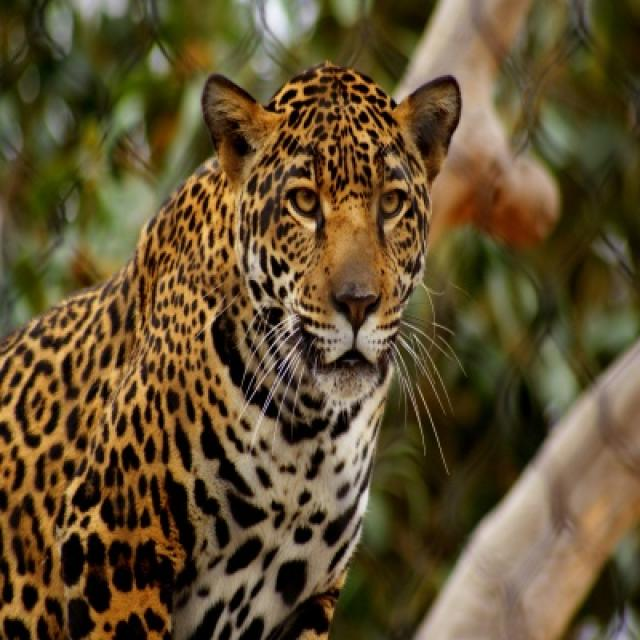Jaguar: (0, 62, 462, 638)
